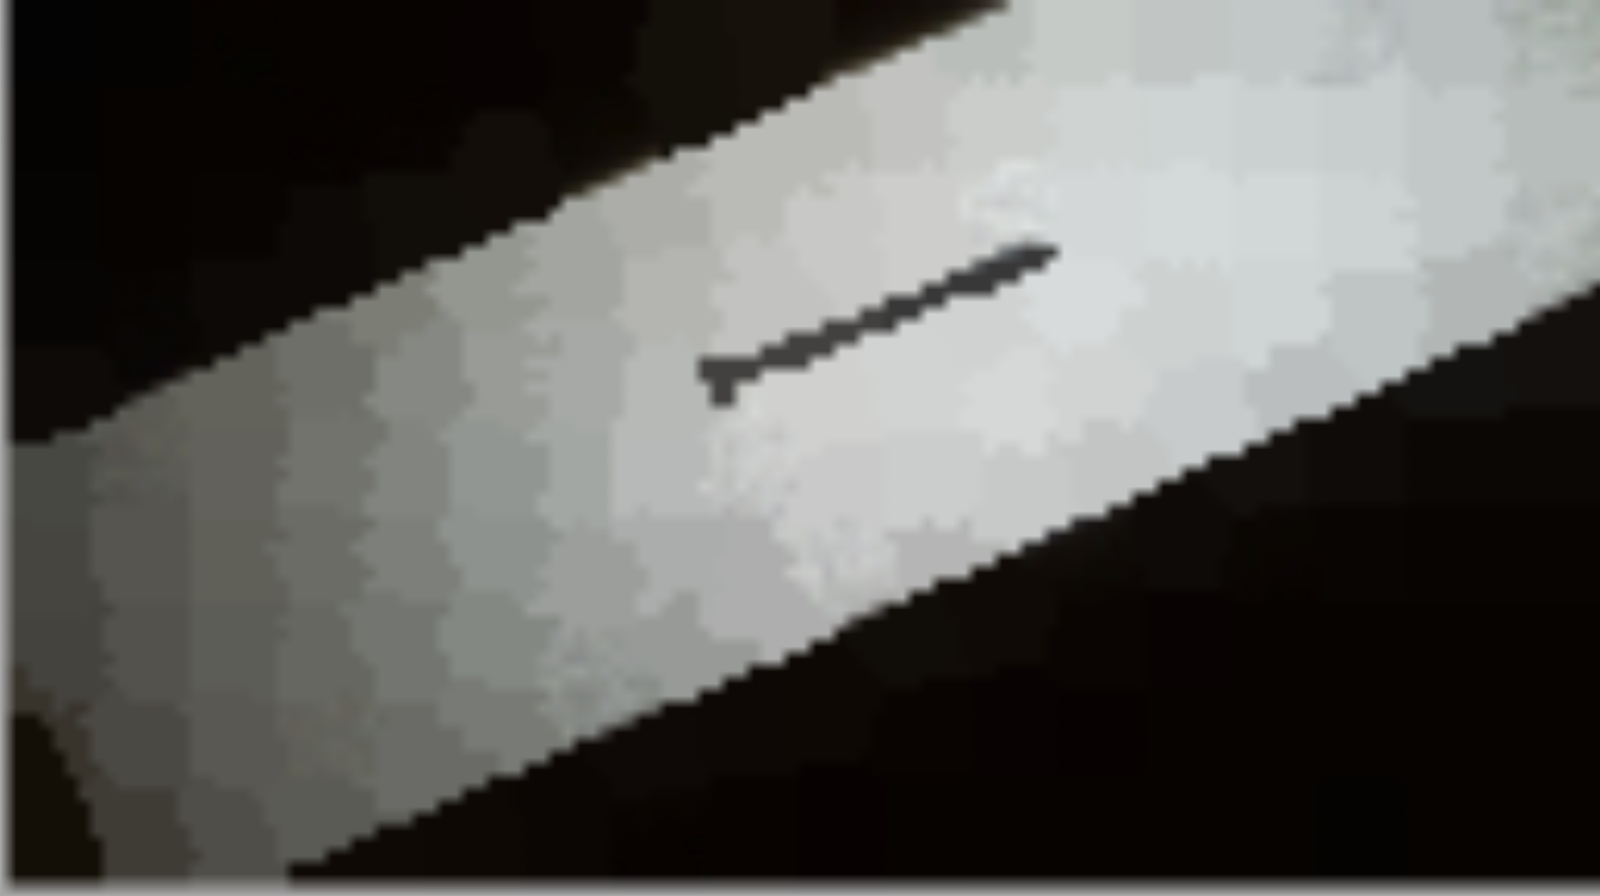S002: (678, 218, 1073, 418)
